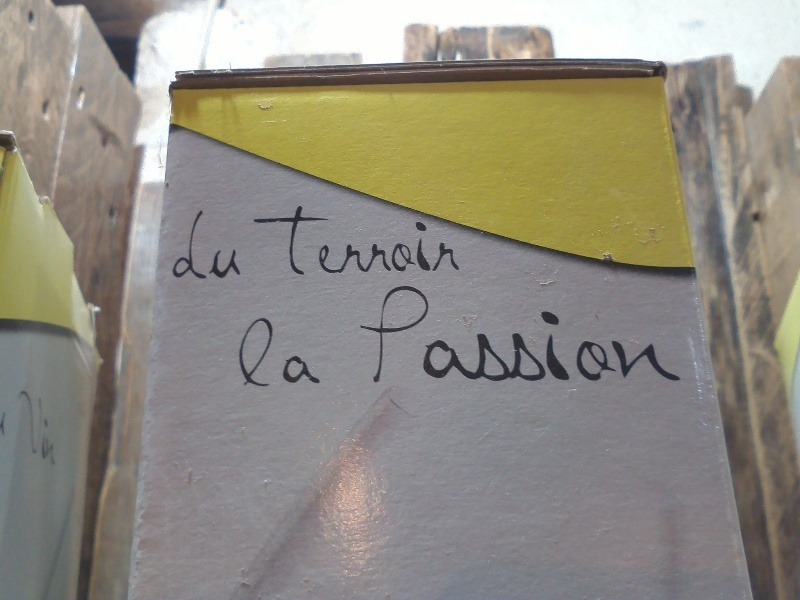text: (369, 286, 384, 388), (385, 286, 400, 388), (401, 286, 416, 388), (417, 286, 432, 388), (433, 286, 448, 388), (449, 286, 464, 388), (465, 286, 480, 388), (481, 286, 496, 388), (497, 286, 512, 388), (513, 286, 528, 388), (529, 286, 544, 388), (545, 286, 560, 388), (561, 286, 576, 388), (577, 286, 592, 388), (593, 286, 608, 388), (609, 286, 624, 388), (625, 286, 640, 388), (641, 286, 656, 388), (657, 286, 672, 388), (33, 384, 48, 470), (49, 384, 64, 470), (356, 286, 368, 388), (257, 201, 272, 280), (273, 201, 288, 280), (289, 201, 304, 280), (305, 201, 320, 280), (321, 201, 336, 280), (337, 201, 352, 280), (353, 201, 368, 280), (369, 201, 384, 280), (385, 201, 400, 280), (401, 201, 416, 280), (417, 201, 432, 280), (433, 201, 448, 280), (449, 201, 464, 280), (673, 286, 684, 388), (65, 384, 78, 470), (241, 316, 256, 389), (257, 316, 272, 389), (273, 316, 288, 389), (289, 316, 304, 389), (305, 316, 320, 389), (177, 209, 192, 281), (193, 209, 208, 281), (209, 209, 224, 281), (225, 209, 240, 281), (21, 384, 32, 470), (465, 201, 471, 280), (251, 201, 256, 280), (238, 316, 240, 389), (321, 316, 323, 389), (241, 209, 243, 281)
